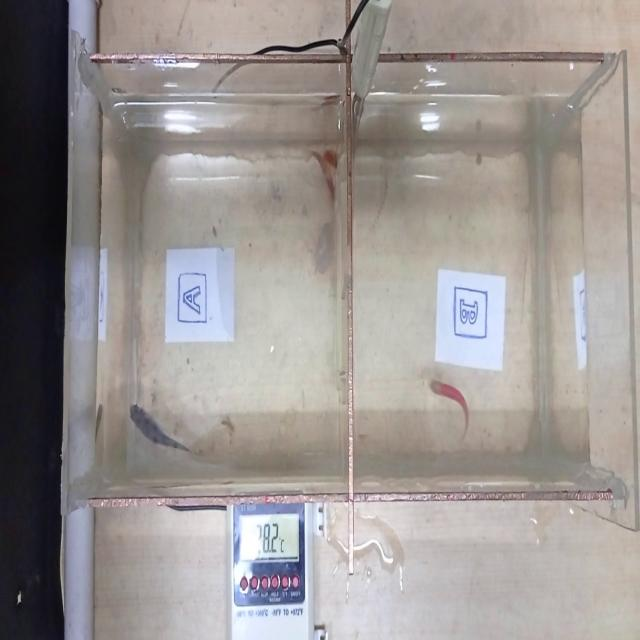Fish A1: (125, 394, 208, 479)
Fish A2: (325, 139, 342, 176)
Fish A3: (310, 158, 338, 220)
Fish B: (425, 365, 483, 453)
